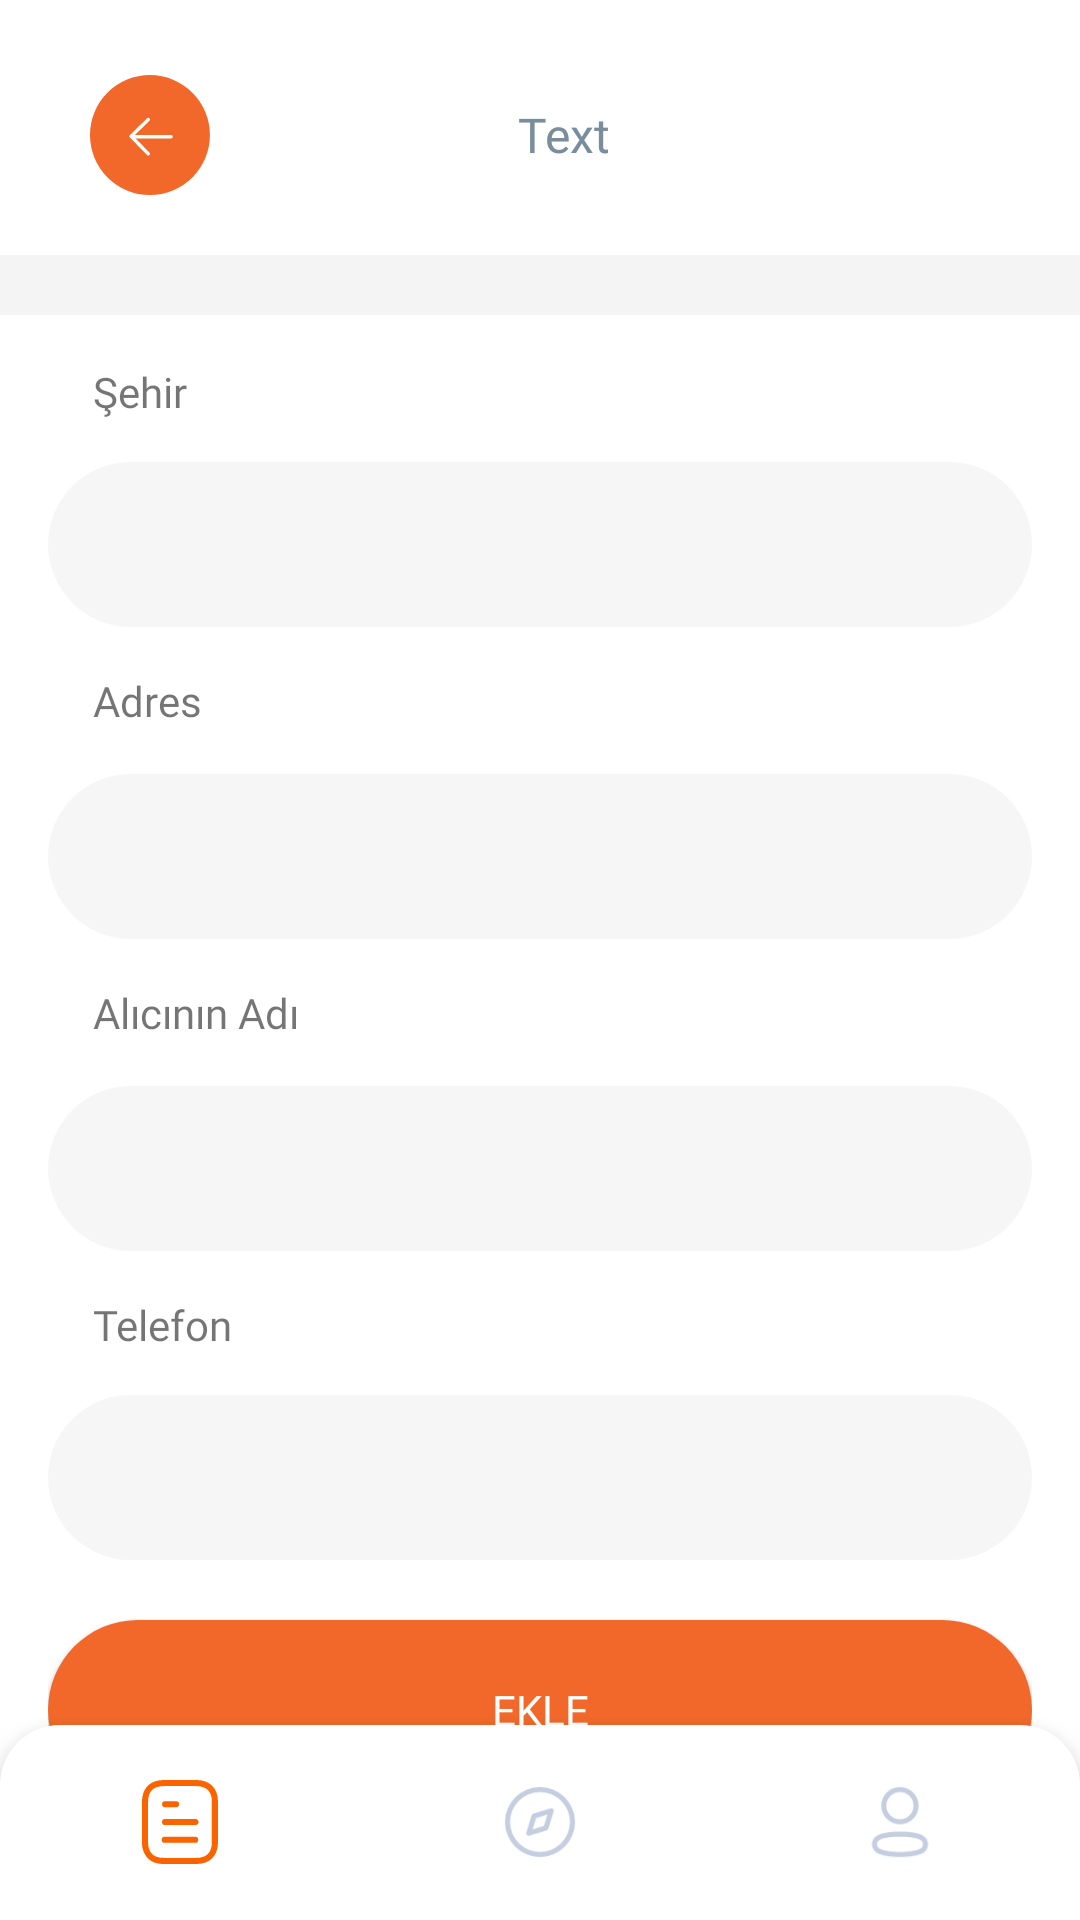

Screen size 1080*1920. Icon name, then its box in pixels as [left=x1, top=y1, right=x2, bottom=y2]:
back: [left=90, top=75, right=210, bottom=195]
